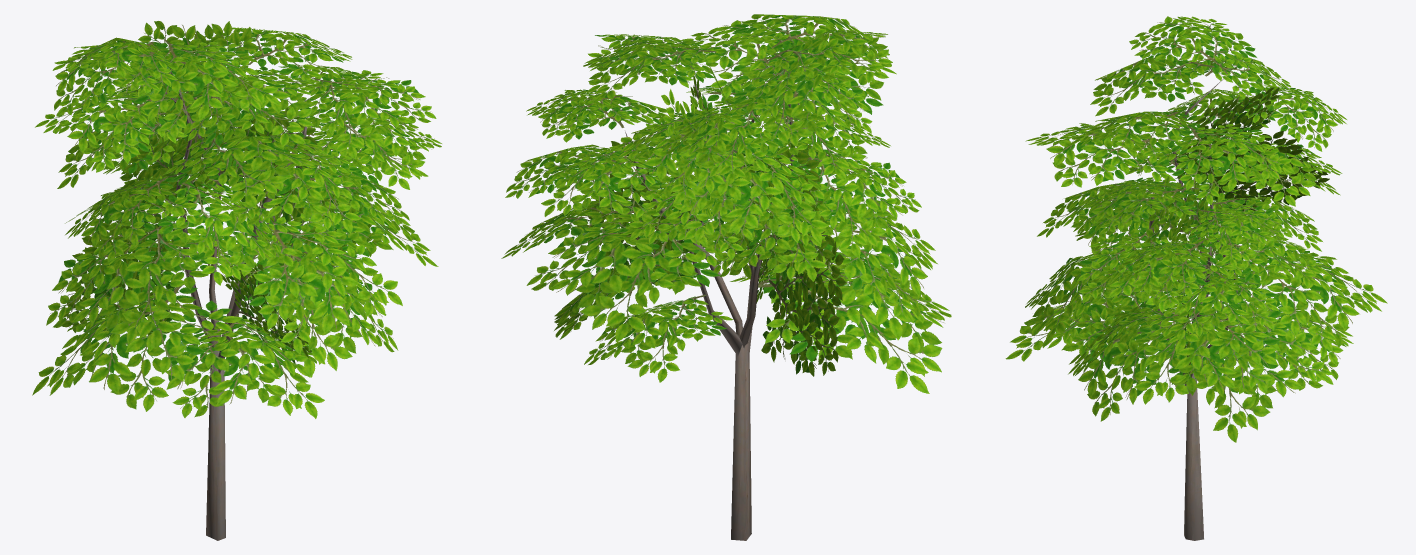
File: SYJ_tree01.FBX
3 views of the same model, side by side, from view 1: azimuth 30°, elevation 25°; view 2: azimuth 150°, elevation 25°; view 3: azimuth 270°, elevation 25° (orthographic). The views are drawn at different scales.
Visible parts, largest first — view 1: SYJ_tree01; view 2: SYJ_tree01; view 3: SYJ_tree01.
Part boxes in pixels (x1=…): SYJ_tree01: x1=32, y1=21, x2=441, y2=540; SYJ_tree01: x1=501, y1=14, x2=951, y2=540; SYJ_tree01: x1=1005, y1=16, x2=1387, y2=540.
Bounding box in the file's own units: 782 × 913 × 727.
